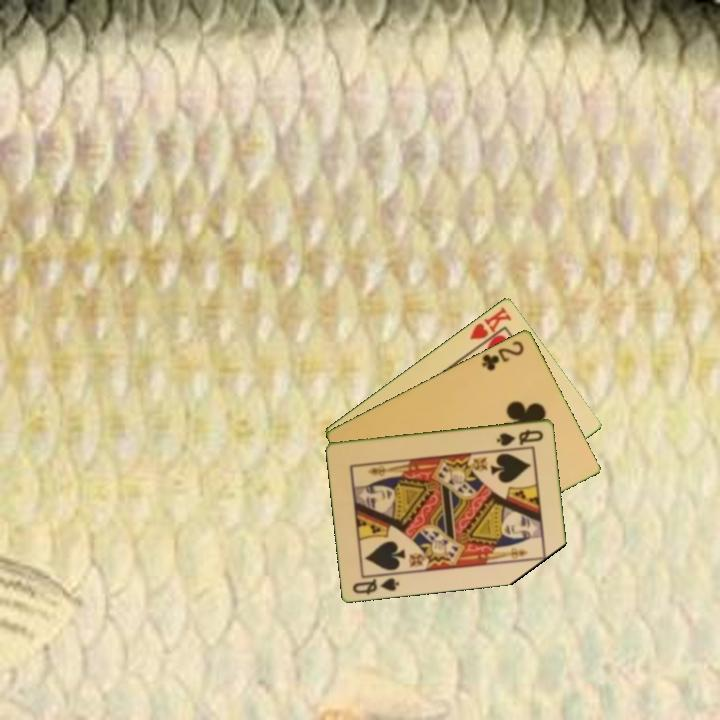2c: (478, 337, 527, 373)
Kh: (466, 303, 514, 351)
Qs: (493, 426, 547, 449), (349, 574, 402, 597)
